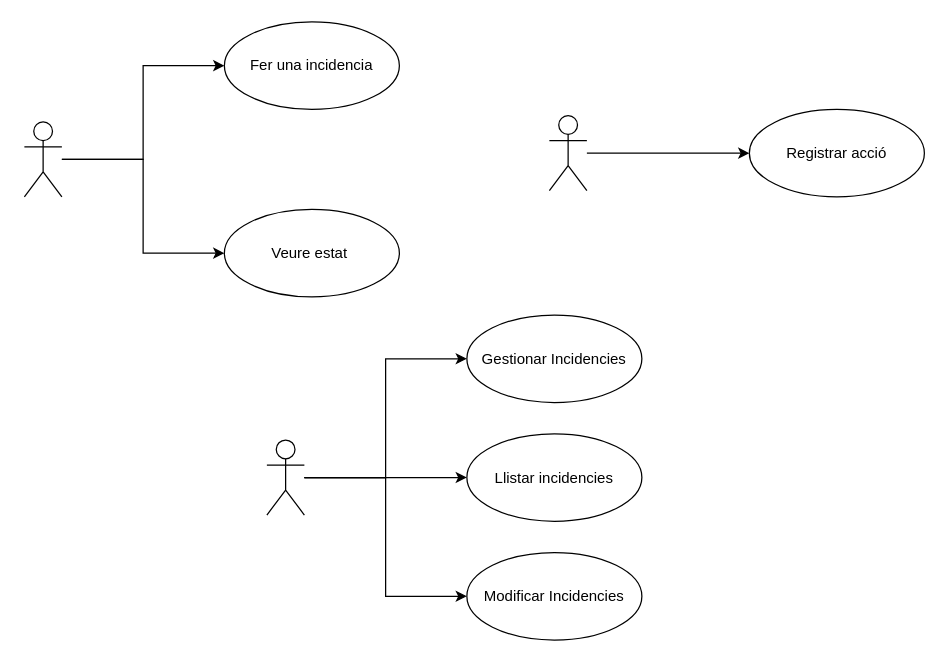
Image size: 946x663. Some labels were removed from this diagram. Each missing label, with the centre of its shape:
Administrador: the point at 285,477
Técnic: the point at 567,152
Usuari: the point at 42,159
